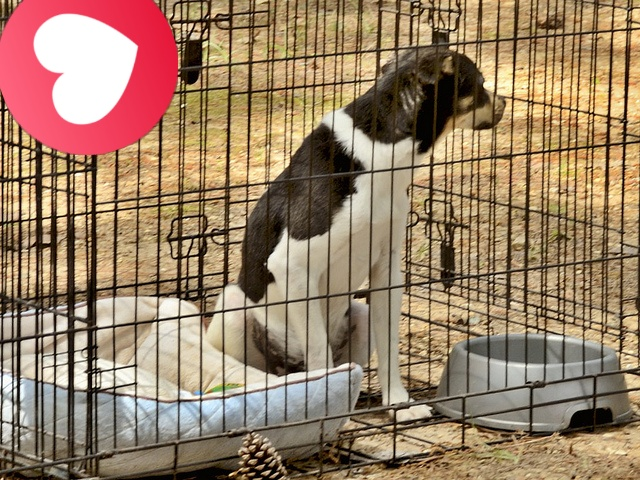love: (0, 0, 178, 155)
